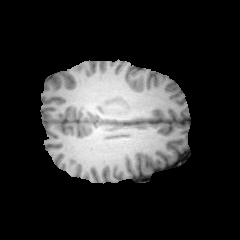glioma: (97, 95, 131, 117)
